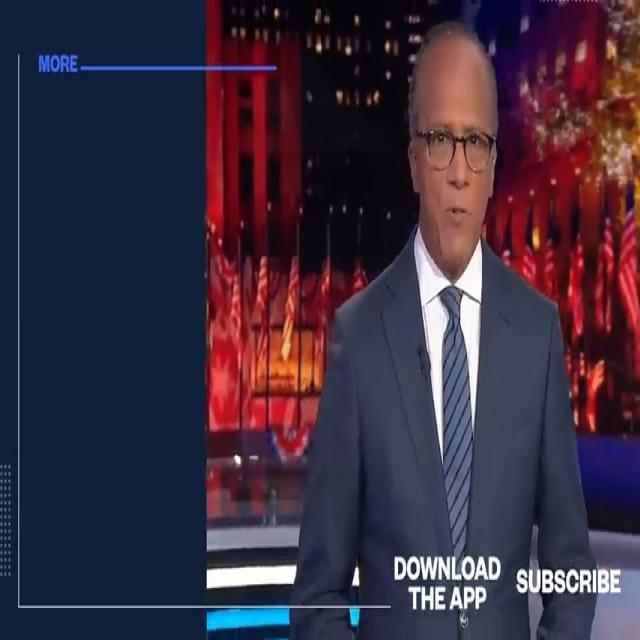non-fight: (288, 14, 598, 640)
